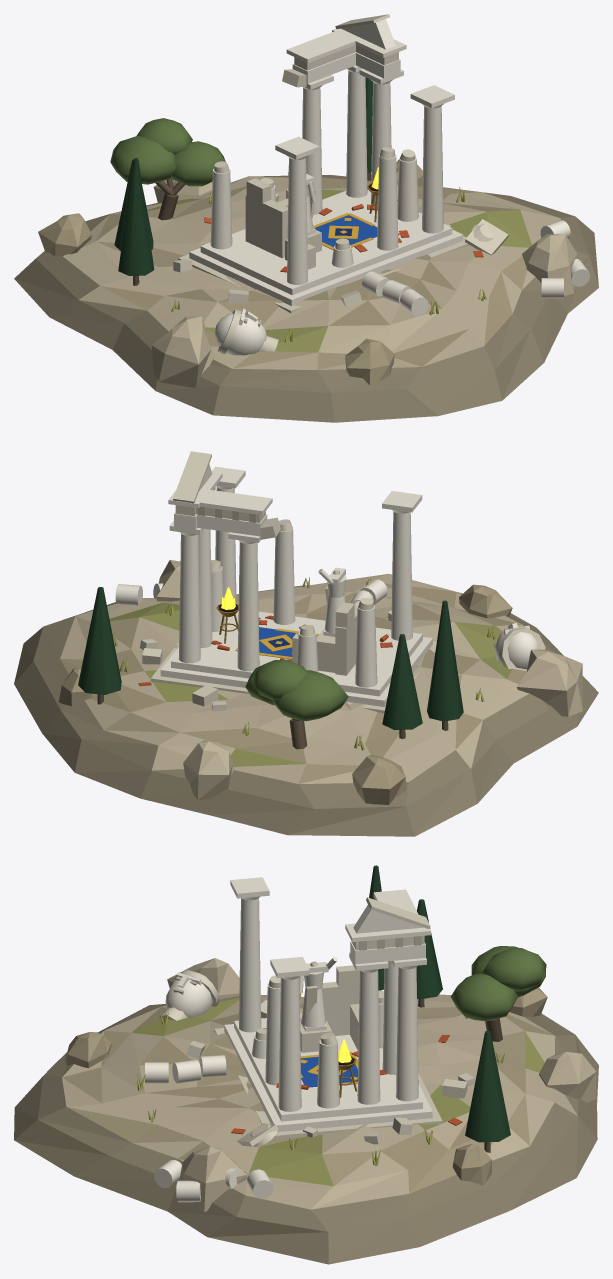
File: marble-ruins.glb
The picture shows the model from 3 angles, top to bottom: view 1: azimuth 30°, elevation 25°; view 2: azimuth 150°, elevation 25°; view 3: azimuth 270°, elevation 25°; orthographic projection. The views are drawn at different scales.
Visible parts, largest first — view 1: Mesh_ShoalWet, Mesh_Shoal, Mesh_ShoalDark, Mesh_Step2, Mesh_Boulder2, Mesh_ShoalGrass, Mesh_Step1, Mesh_Column3, Mesh_Cypress0, Mesh_Column0, Mesh_Column9, Mesh_OliveCanopy1 (+26 smaller); view 2: Mesh_ShoalWet, Mesh_Shoal, Mesh_ShoalDark, Mesh_Step2, Mesh_ShoalGrass, Mesh_Boulder2, Mesh_Cypress2, Mesh_Cypress0, Mesh_Column4, Mesh_Column0, Mesh_Column9, Mesh_OliveCanopy1 (+26 smaller); view 3: Mesh_ShoalWet, Mesh_Shoal, Mesh_ShoalDark, Mesh_ShoalGrass, Mesh_Step2, Mesh_Cypress2, Mesh_Step1, Mesh_Column3, Mesh_Column1, Mesh_Column0, Mesh_Column9, Mesh_Boulder0 (+31 smaller).
Part boxes in pixels (bbox=[...]): Mesh_ShoalWet: bbox=[14, 175, 598, 422]; Mesh_Shoal: bbox=[63, 176, 560, 369]; Mesh_ShoalDark: bbox=[95, 177, 526, 369]; Mesh_Step2: bbox=[200, 190, 452, 295]; Mesh_Boulder2: bbox=[151, 316, 215, 387]; Mesh_ShoalGrass: bbox=[147, 189, 531, 352]; Mesh_Step1: bbox=[189, 229, 463, 305]; Mesh_Column3: bbox=[422, 106, 443, 233]; Mesh_Cypress0: bbox=[118, 158, 154, 275]; Mesh_Column0: bbox=[346, 70, 367, 197]; Mesh_Column9: bbox=[287, 158, 307, 284]; Mesh_OliveCanopy1: bbox=[110, 135, 176, 184]; Mesh_ShoalWet: bbox=[14, 585, 598, 836]; Mesh_Shoal: bbox=[60, 573, 528, 783]; Mesh_ShoalDark: bbox=[60, 583, 526, 783]; Mesh_Step2: bbox=[171, 611, 422, 696]; Mesh_ShoalGrass: bbox=[109, 602, 512, 766]; Mesh_Boulder2: bbox=[517, 649, 582, 716]; Mesh_Cypress2: bbox=[78, 587, 121, 694]; Mesh_Cypress0: bbox=[427, 600, 463, 721]; Mesh_Column4: bbox=[237, 541, 259, 671]; Mesh_Column0: bbox=[178, 533, 200, 663]; Mesh_Column9: bbox=[391, 511, 412, 640]; Mesh_OliveCanopy1: bbox=[272, 670, 348, 721]; Mesh_ShoalWet: bbox=[14, 1004, 598, 1264]; Mesh_Shoal: bbox=[62, 994, 577, 1209]; Mesh_ShoalDark: bbox=[62, 996, 554, 1193]; Mesh_ShoalGrass: bbox=[131, 998, 544, 1186]; Mesh_Step2: bbox=[234, 1018, 422, 1121]; Mesh_Cypress2: bbox=[465, 1030, 510, 1142]; Mesh_Step1: bbox=[224, 1024, 432, 1131]; Mesh_Column3: bbox=[278, 977, 301, 1111]; Mesh_Column1: bbox=[357, 970, 380, 1104]; Mesh_Column0: bbox=[396, 967, 418, 1101]; Mesh_Column9: bbox=[239, 898, 261, 1032]; Mesh_Boulder0: bbox=[177, 1146, 246, 1211].
Size of the model in its own units: 29.2 by 14.01 by 28.28.
